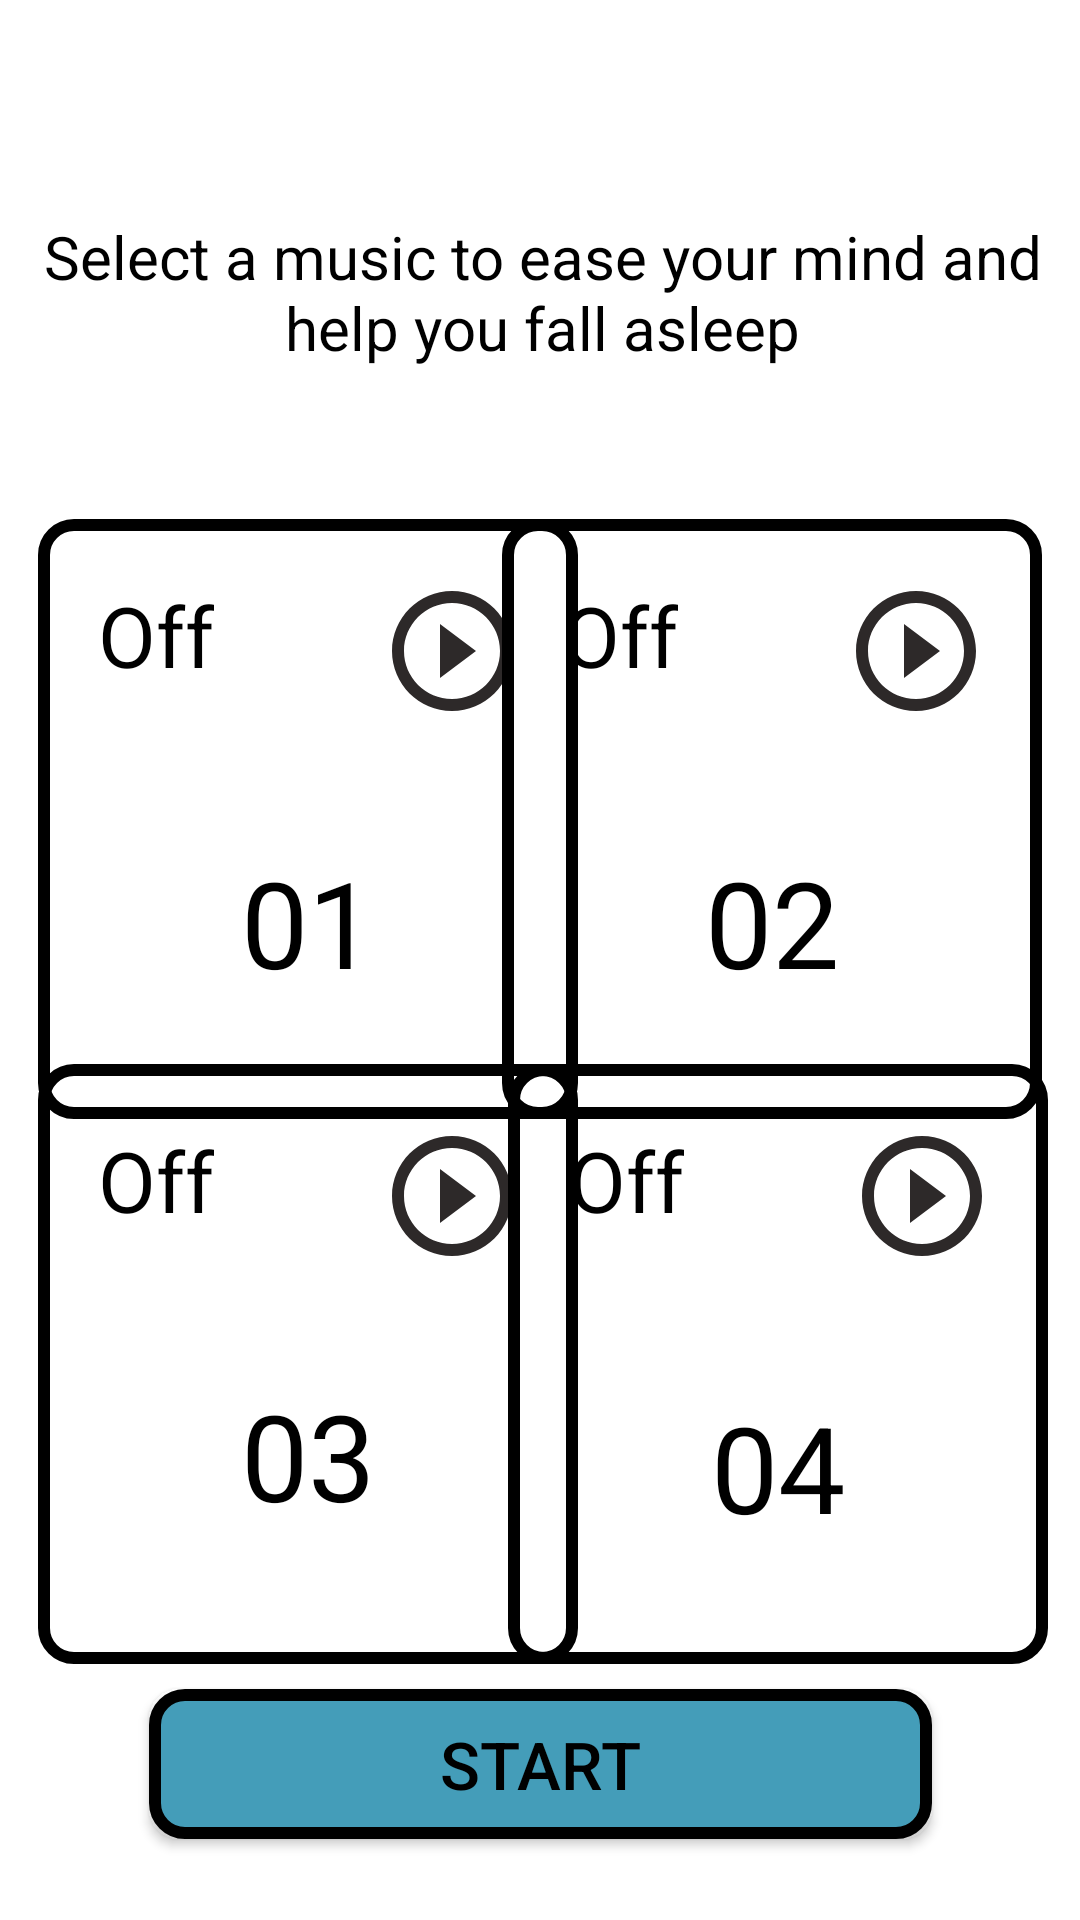

Named icons in this screenshot (1080px x 1920px) and their centers, point (x, y):
play circle: point (453, 651), point (916, 651), point (456, 1196), point (922, 1196)
